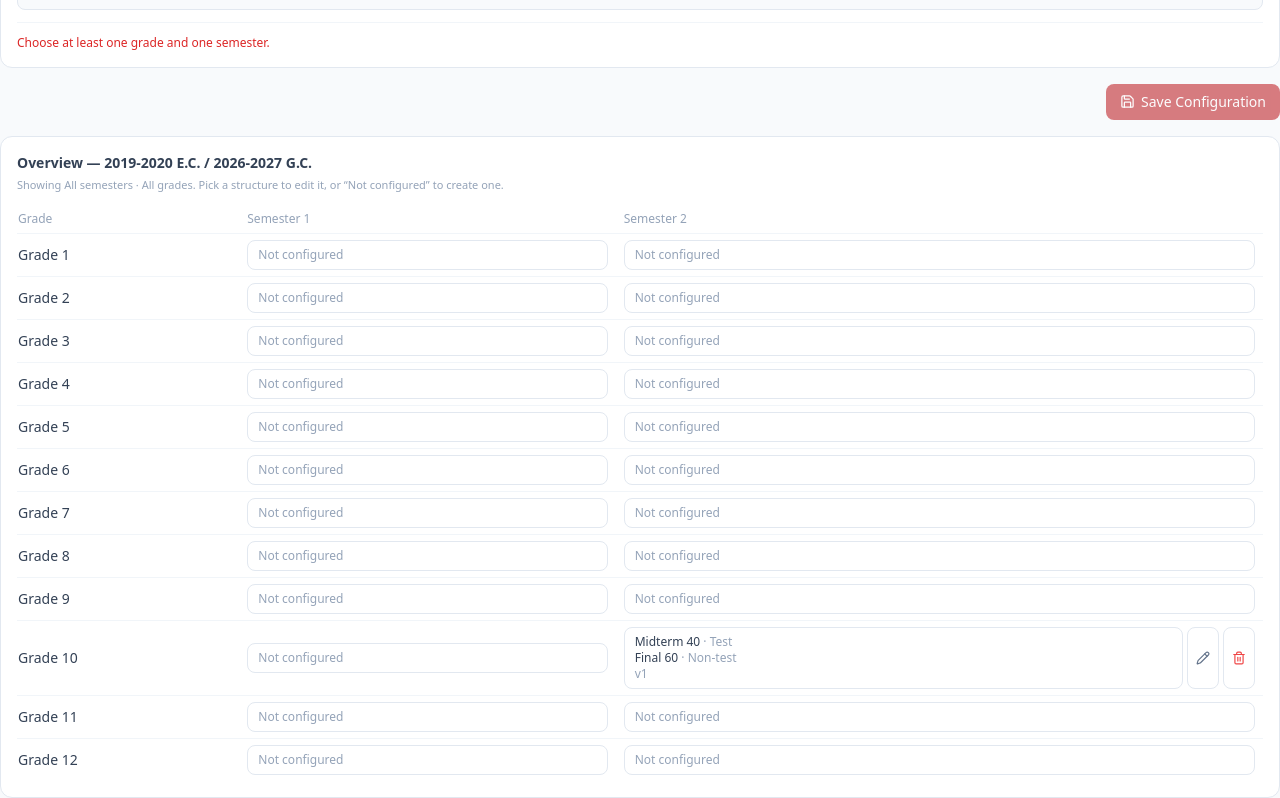
Test 6 (UI) — a structure with saved results cannot be deleted › re-checks in the delete itself: if a score was saved after the page looked, the server refusal replaces the confirm dialog
(page scrolled)
Click the button named "Delete structure for Grade 10 Semester 2": (1239, 658) [1223, 627, 1255, 689]
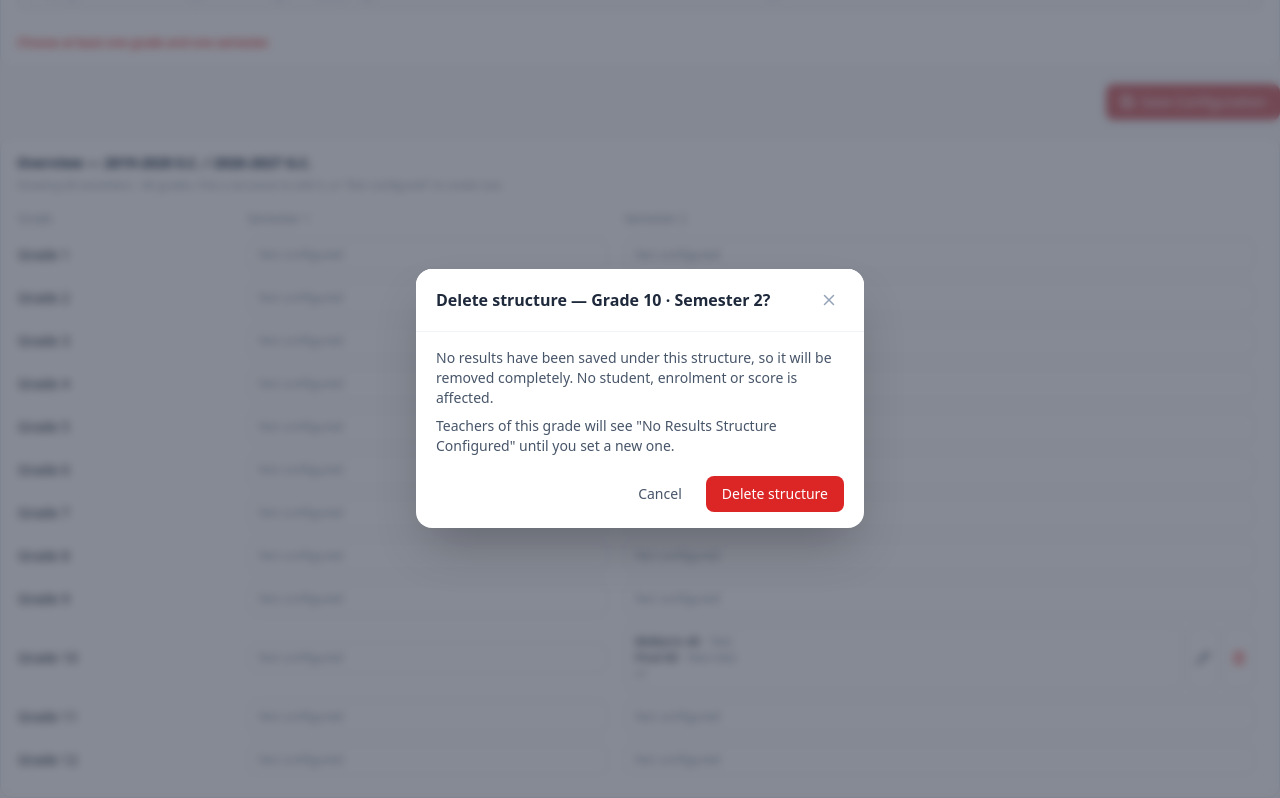
Click the button "Delete structure": (775, 494) [706, 476, 844, 512]
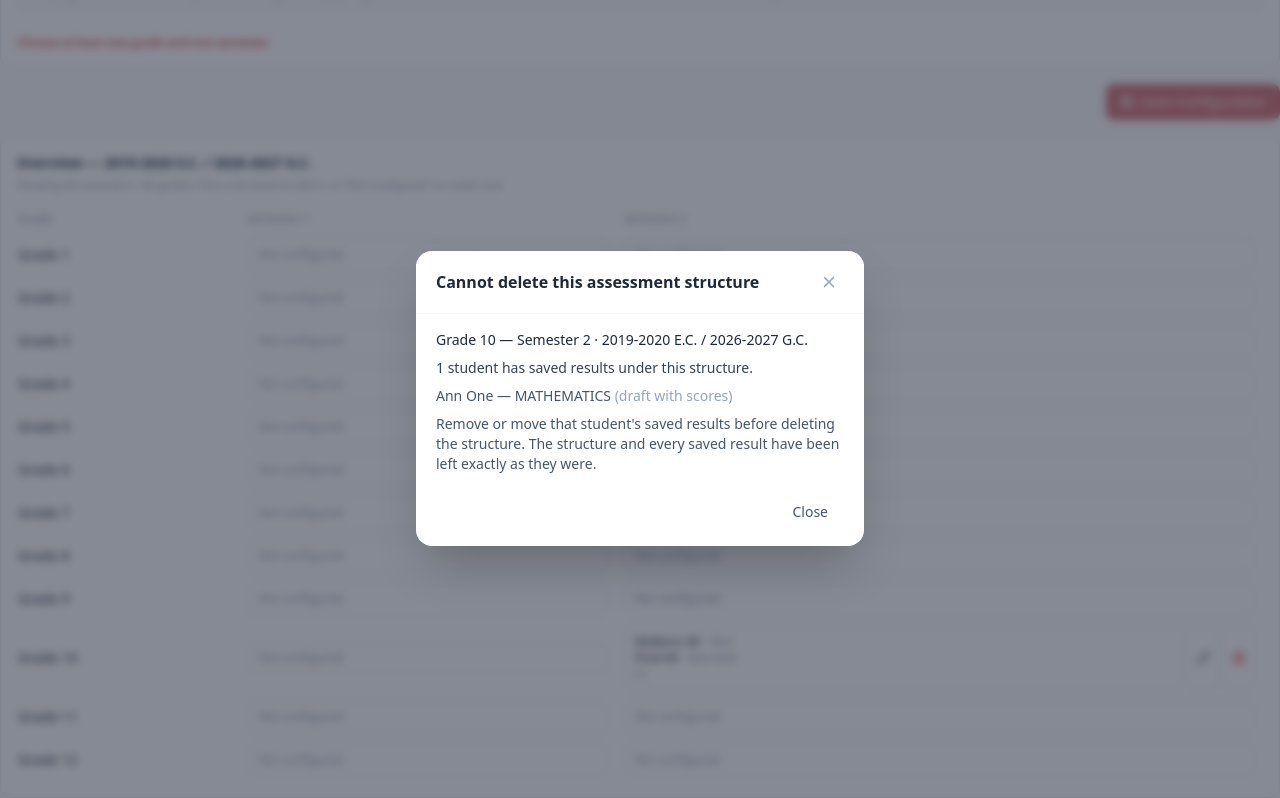
Expected: the heading "Cannot delete this assessment structure" is shown, [436, 270, 759, 294]
Expected: the text "1 student has saved results under this structure." is shown, [436, 358, 753, 376]
Expected: the list item "Ann One — MATHEMATICS (draft with scores)" is shown, [436, 386, 732, 404]
